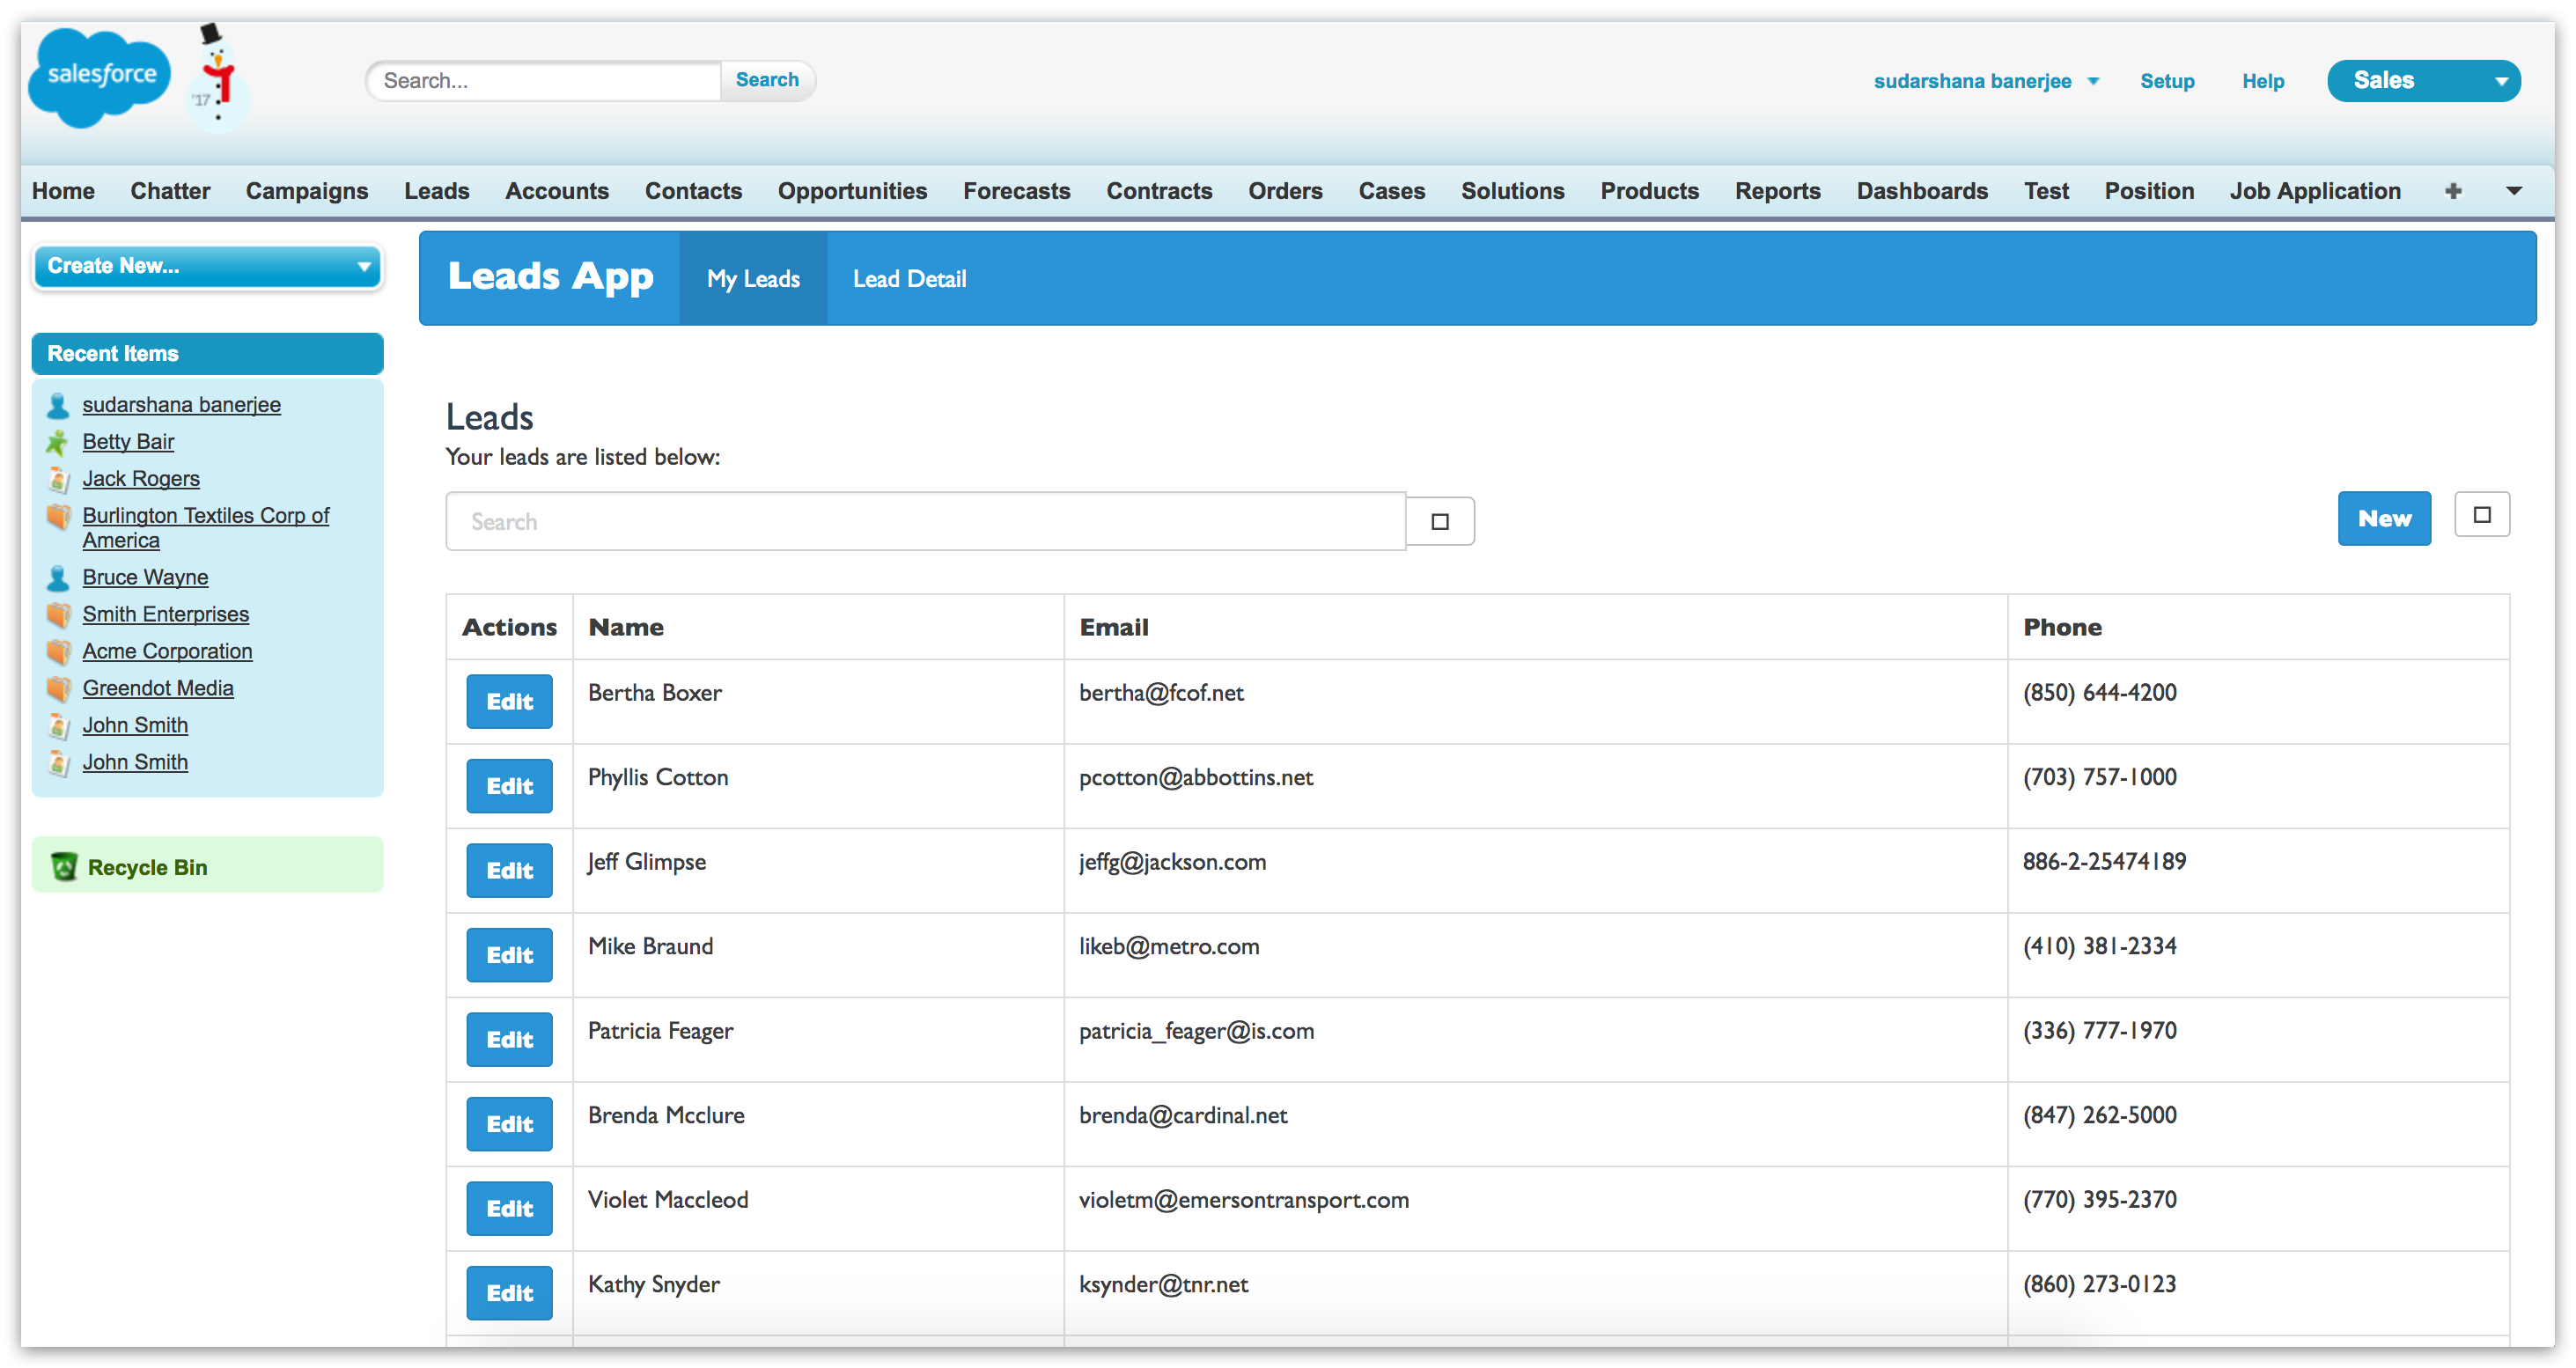BUTTON: (2326, 60, 2520, 102), (465, 671, 555, 731), (2336, 491, 2428, 545), (465, 927, 554, 983), (465, 1179, 554, 1235), (465, 1264, 554, 1320), (463, 758, 554, 813), (465, 1012, 552, 1066), (467, 843, 554, 896), (467, 1095, 554, 1148), (719, 60, 814, 99)
COMBOBOX: (34, 245, 383, 290)
DROPDOWN_HANDLE: (339, 244, 385, 290), (2474, 60, 2515, 101)
IMAGEBUTTON: (1407, 496, 1477, 547), (2455, 491, 2511, 537), (2501, 177, 2527, 203), (2438, 177, 2462, 201)
TEXTBOX: (445, 492, 1406, 549), (366, 61, 721, 101)
